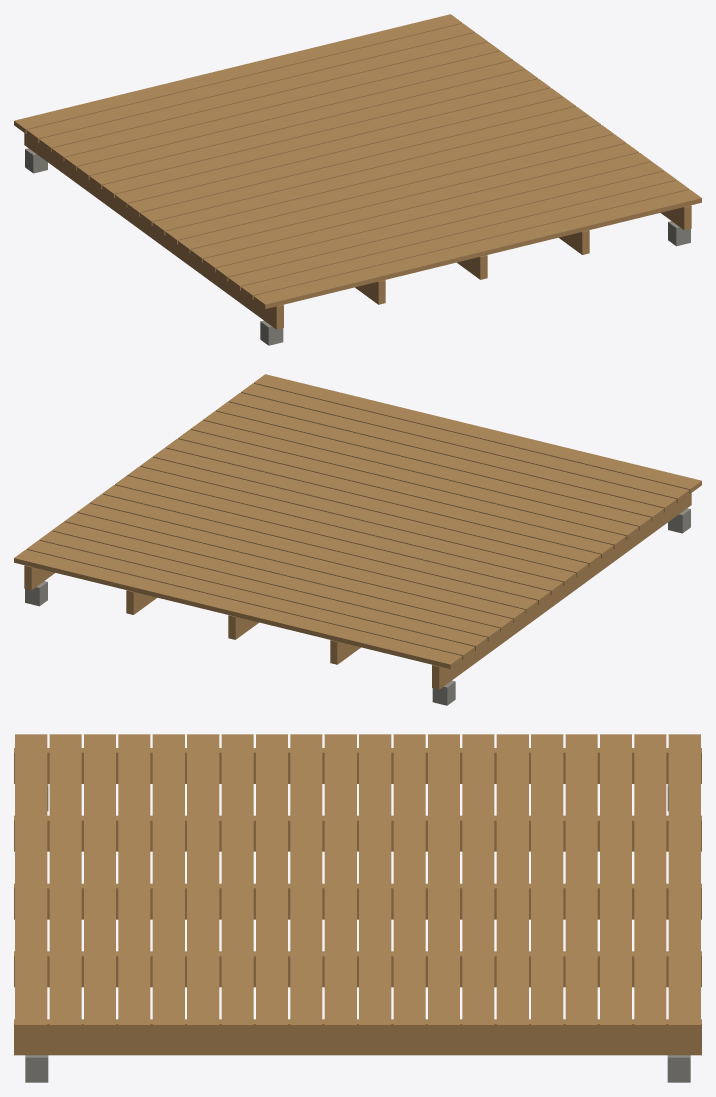
The model's file is home.lodge.decking.glb.
3 renders of one model, top to bottom at view 1: azimuth 30°, elevation 25°; view 2: azimuth 150°, elevation 25°; view 3: azimuth 270°, elevation 25°, orthographic. The views are drawn at different scales.
Parts seen in each view (by area): view 1: main__softwood, main__concrete; view 2: main__softwood, main__concrete; view 3: main__softwood, main__concrete.
Part boxes in pixels (x1,y1,x2,y2): main__softwood: (14,14,701,329); main__concrete: (25,148,690,345); main__softwood: (14,374,701,689); main__concrete: (25,508,690,705); main__softwood: (14,734,701,1055); main__concrete: (25,784,690,1082).
Bounding box in the file's own units: 3 × 0.3 × 3.
